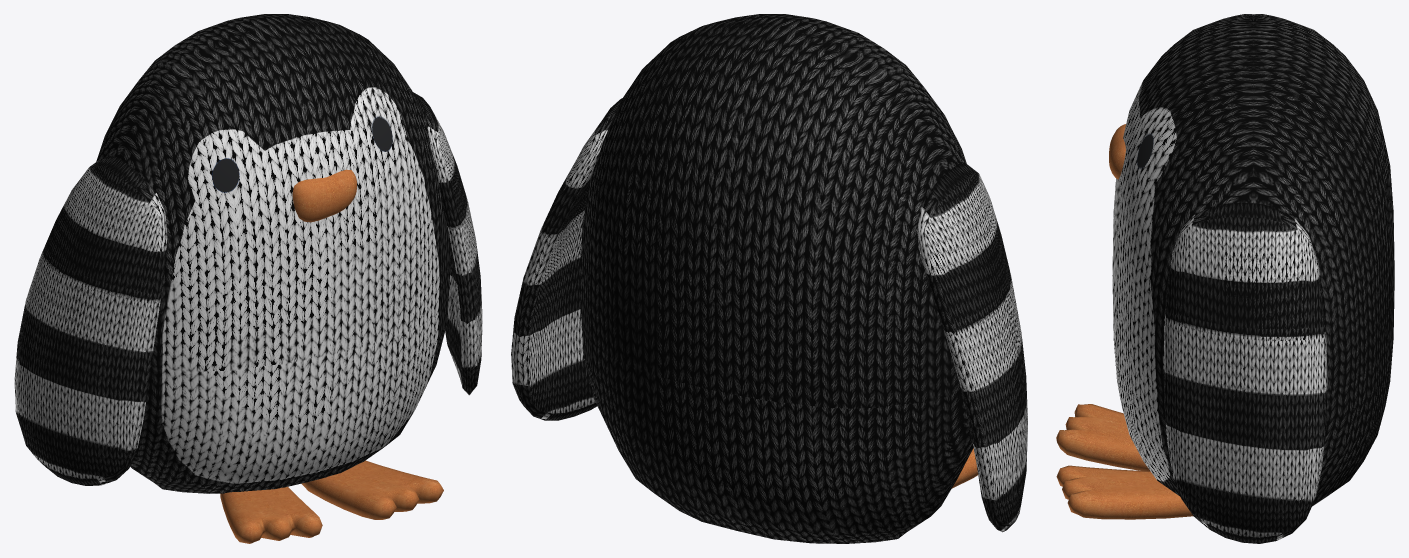
File: PinguinV2.fbx
The picture shows the model from 3 angles, left to right: view 1: azimuth 30°, elevation 25°; view 2: azimuth 150°, elevation 25°; view 3: azimuth 270°, elevation 25°; orthographic projection. The views are drawn at different scales.
Parts seen in each view (by area): view 1: penguin; view 2: penguin; view 3: penguin.
Boxes of the visible parts, bbox=[...] form: penguin: bbox=[14, 14, 482, 543]; penguin: bbox=[511, 14, 1027, 543]; penguin: bbox=[1056, 14, 1394, 543].
Bounding box in the file's own units: 22.96 × 22.16 × 14.97.
